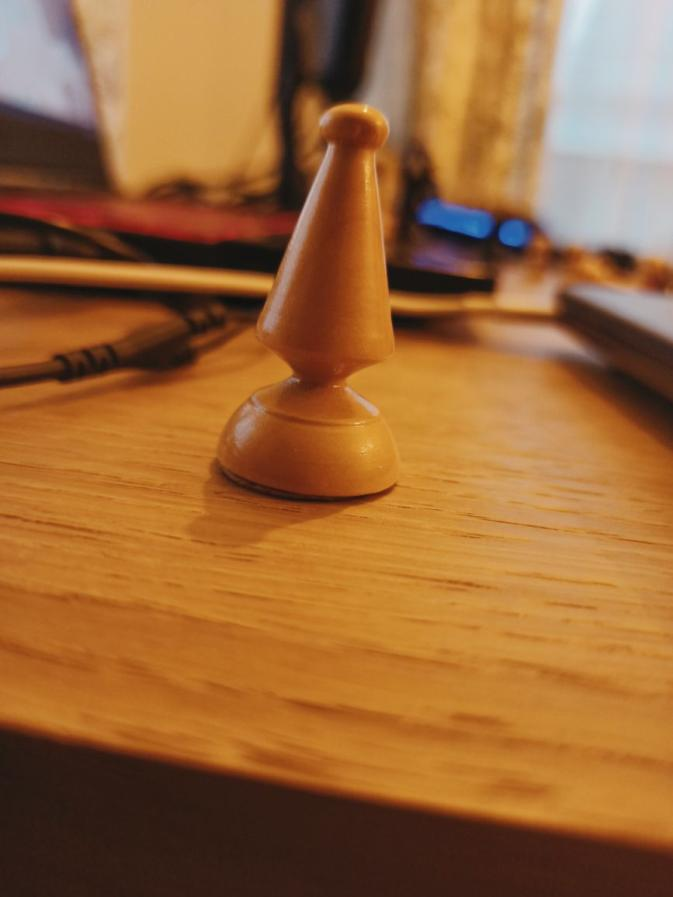wbishop: (219, 105, 422, 500)
